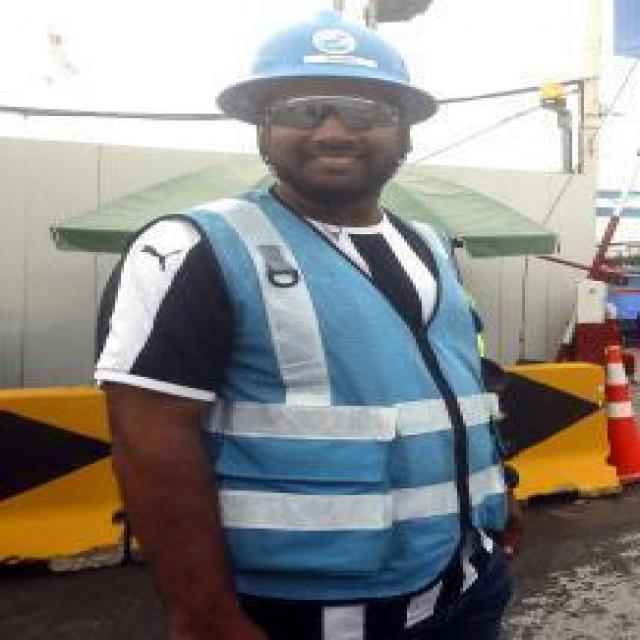hat: (216, 9, 440, 125)
